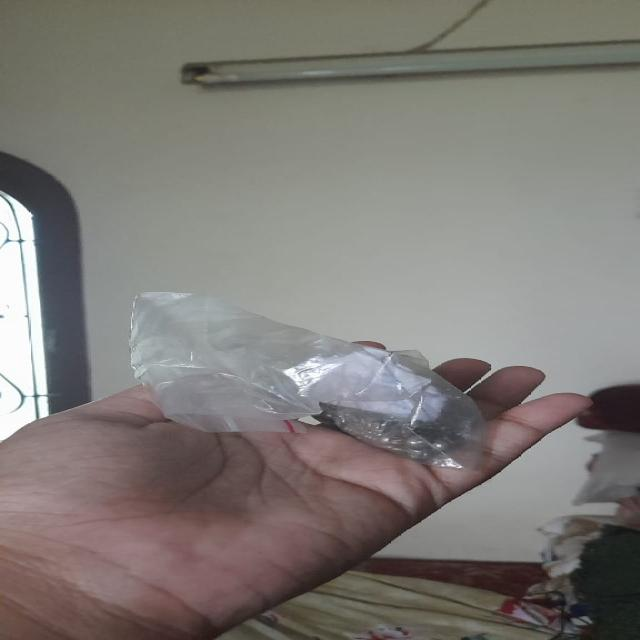Plastic - Recyclable: (126, 290, 491, 471)
